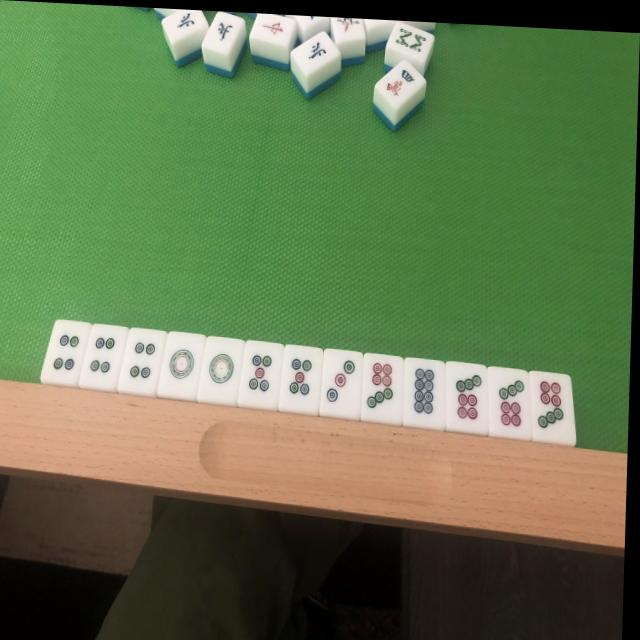1D: (167, 341, 200, 390), (206, 344, 239, 392)
3D: (324, 354, 361, 408)
4D: (51, 329, 82, 374), (89, 334, 117, 378), (129, 341, 157, 383)
5D: (245, 348, 278, 397), (285, 352, 317, 400)
7D: (534, 377, 569, 437), (451, 368, 486, 426), (495, 374, 528, 433), (364, 358, 399, 412)
8D: (407, 365, 442, 425)
